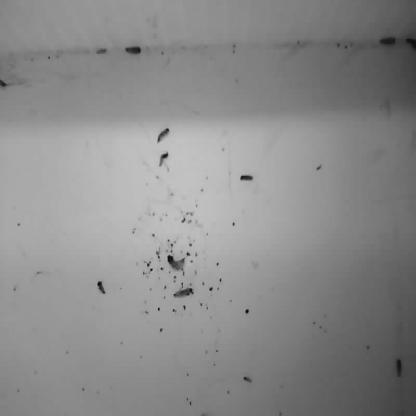PtecticusTenebrifer: (168, 253, 186, 273), (124, 44, 145, 59), (380, 34, 398, 50), (172, 288, 195, 300), (156, 127, 172, 144), (394, 361, 405, 380), (238, 172, 254, 185), (96, 280, 107, 298), (159, 151, 169, 170), (95, 46, 109, 58)
